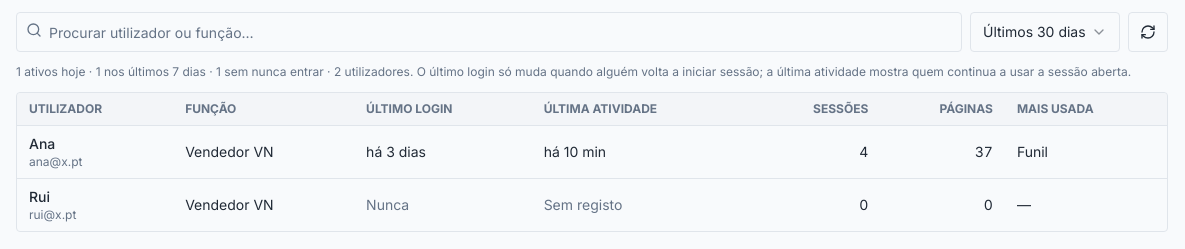
Test: Página Logs › procura por nome, email ou função
The width and height of the screenshot is (1185, 249).
expect the text "Ana" is shown: met, box [29,135,55,152]
Type "rui@" into the field with placeholder "Procurar utilizador ou função…".
click(489, 32); type("rui@")  # box [16,12,962,52]
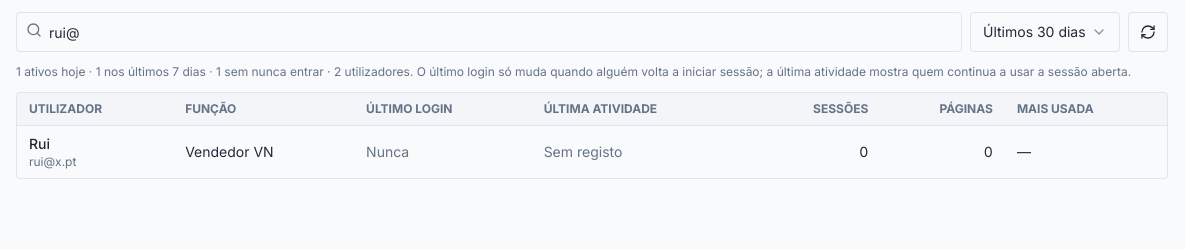
expect the text "Rui" is shown: met, box [29,135,50,152]
expect the text "Ana" is gone: met
